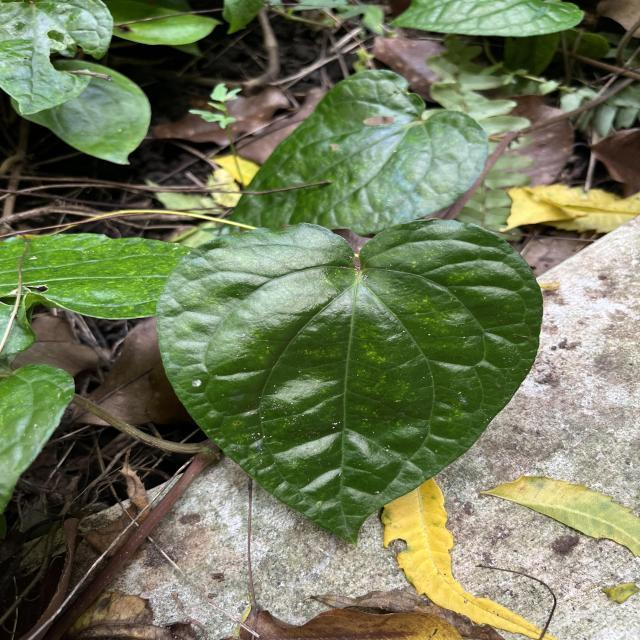Piper betle: (155, 214, 550, 552)
